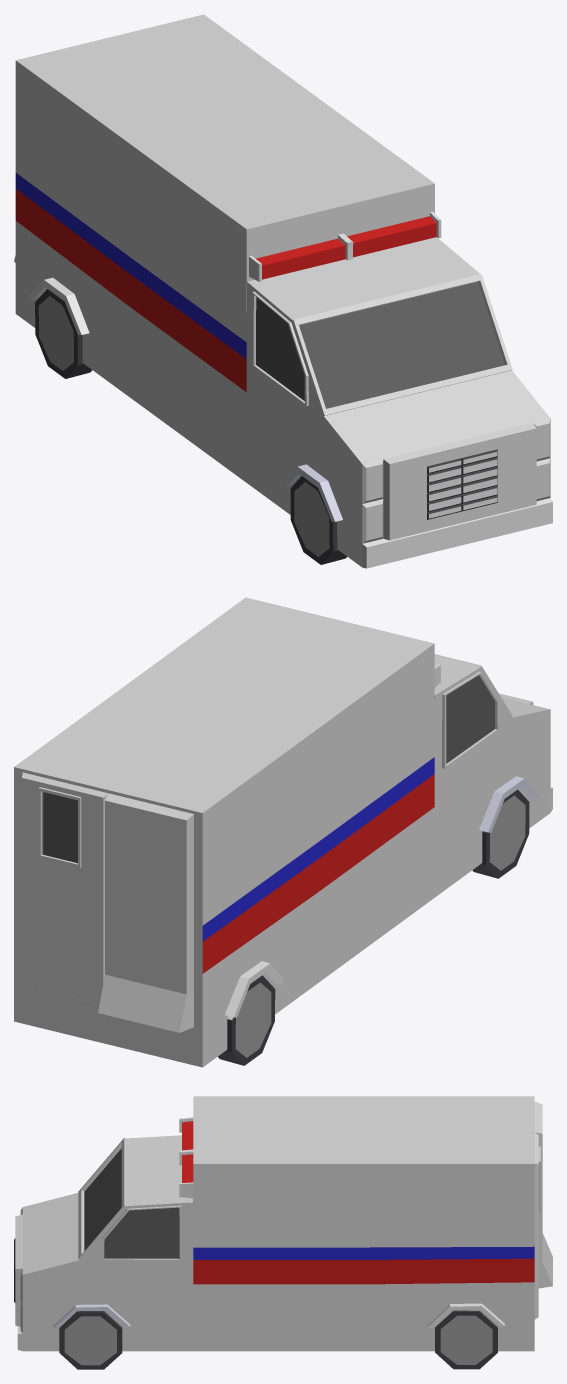
The model's file is Ambulance1Coloured.fbx.
The picture shows the model from 3 angles, top to bottom: view 1: azimuth 30°, elevation 25°; view 2: azimuth 150°, elevation 25°; view 3: azimuth 270°, elevation 25°; orthographic projection. The views are drawn at different scales.
Parts seen in each view (by area): view 1: Cube, Cylinder.002, Cylinder.001; view 2: Cube, Cylinder.001, Cylinder.002; view 3: Cube, Cylinder.001, Cylinder.002.
Part boxes in pixels (x1,y1,x2,y2): Cube: [14, 14, 552, 568]; Cylinder.002: [28, 277, 89, 335]; Cylinder.001: [282, 464, 342, 521]; Cube: [14, 597, 552, 1067]; Cylinder.001: [479, 776, 538, 832]; Cylinder.002: [225, 961, 284, 1017]; Cube: [14, 1096, 552, 1369]; Cylinder.001: [53, 1304, 130, 1329]; Cylinder.002: [427, 1303, 504, 1328].
Bounding box in the file's own units: 230 × 296 × 705.
